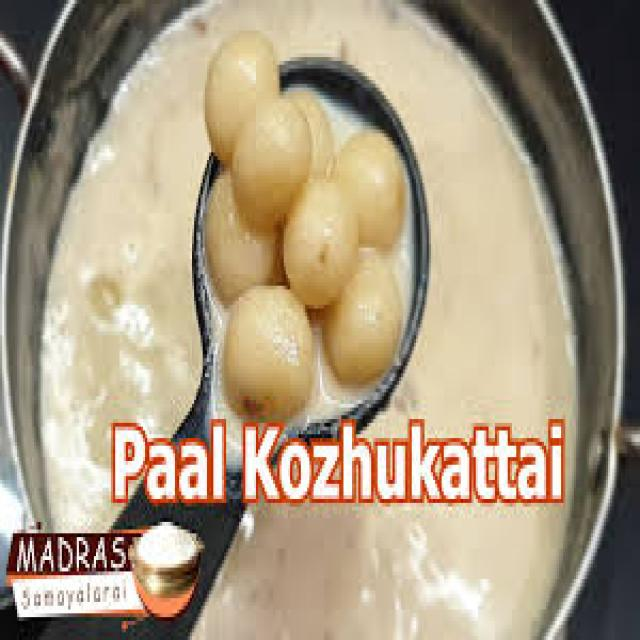paal kolukattai: (37, 26, 543, 407)
